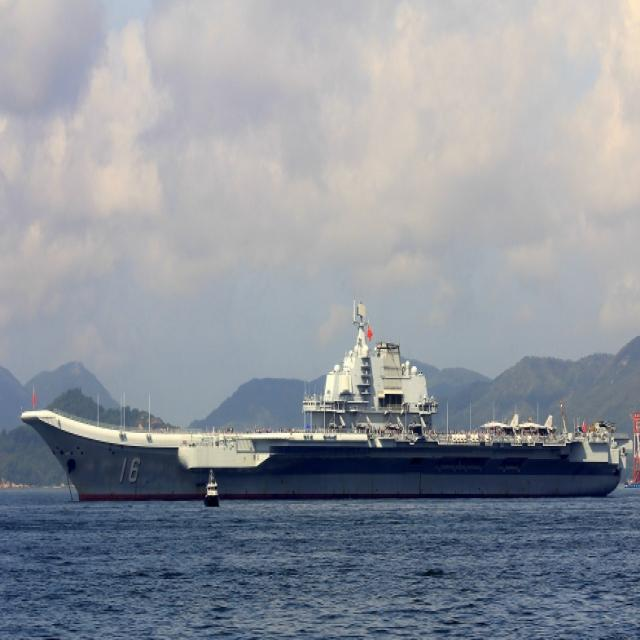Portanaves: (19, 289, 626, 514)
